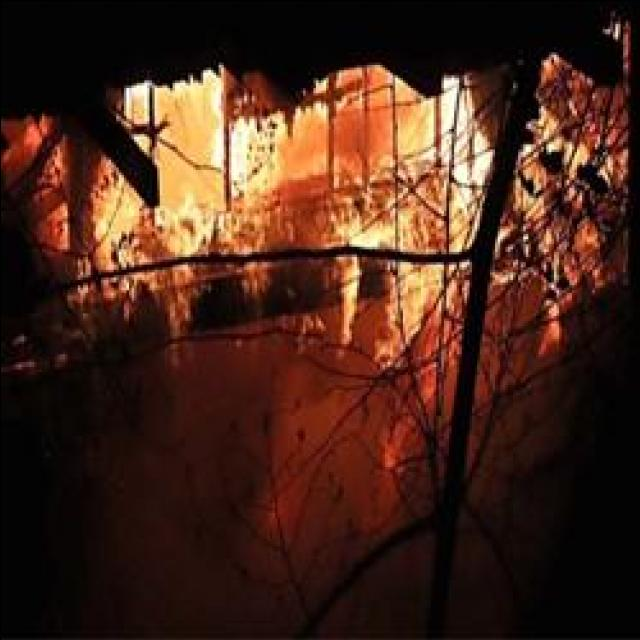fire: (107, 77, 283, 215), (437, 77, 477, 167)
